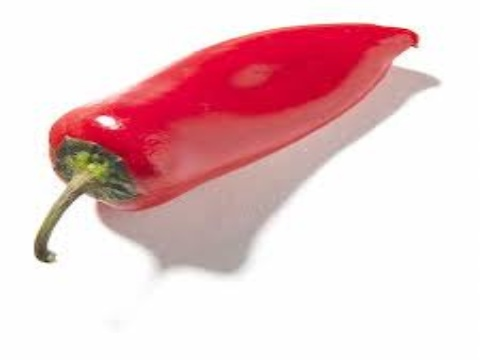Chilli: (21, 21, 432, 281)
